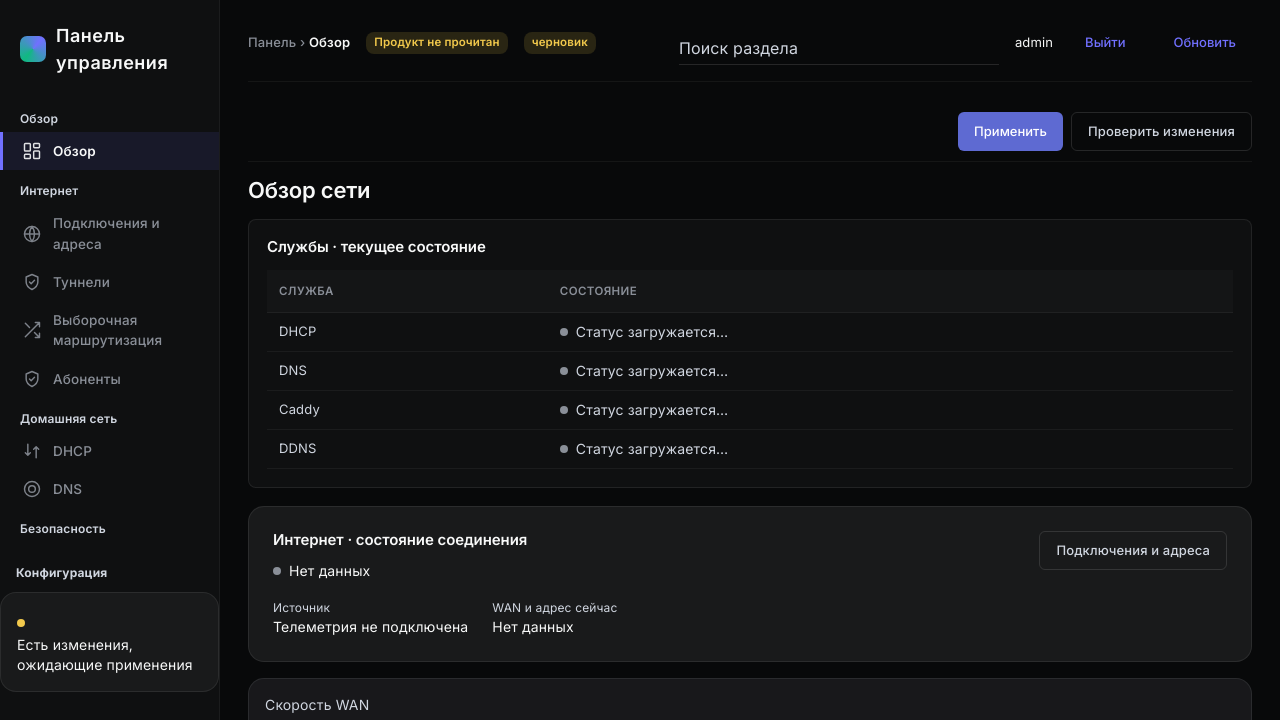
Scenario: opens review from the topbar without applying a draft
What coordinates should you click on to do the following:
click the link "Проверить изменения"
I would click on:
 (1161, 131)
Its box is [1071,112,1252,151].
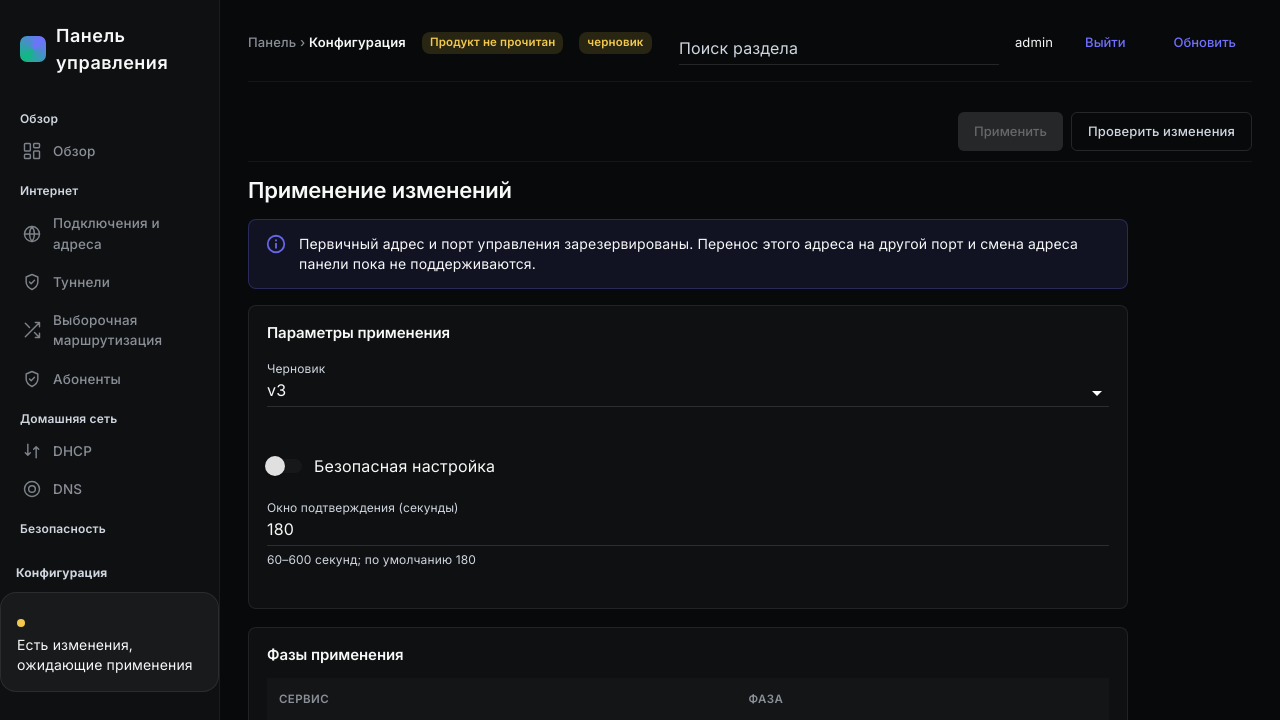
Now the heading "Применение изменений" is shown, box [248,177,512,203]
